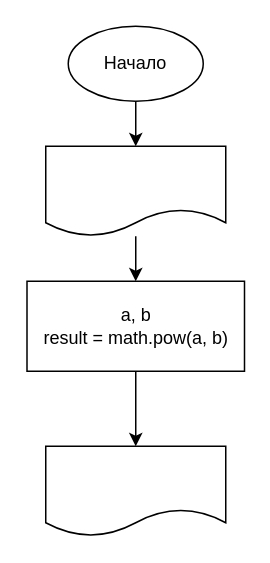
The diagram is 270 pixels wide and 563 high, and some of its shapes have lost their labels. The centre of each missing label's shape, as x and y in pixels:
"print result" goes at [135,490].
"Введите 2 числа" goes at [135,190].
